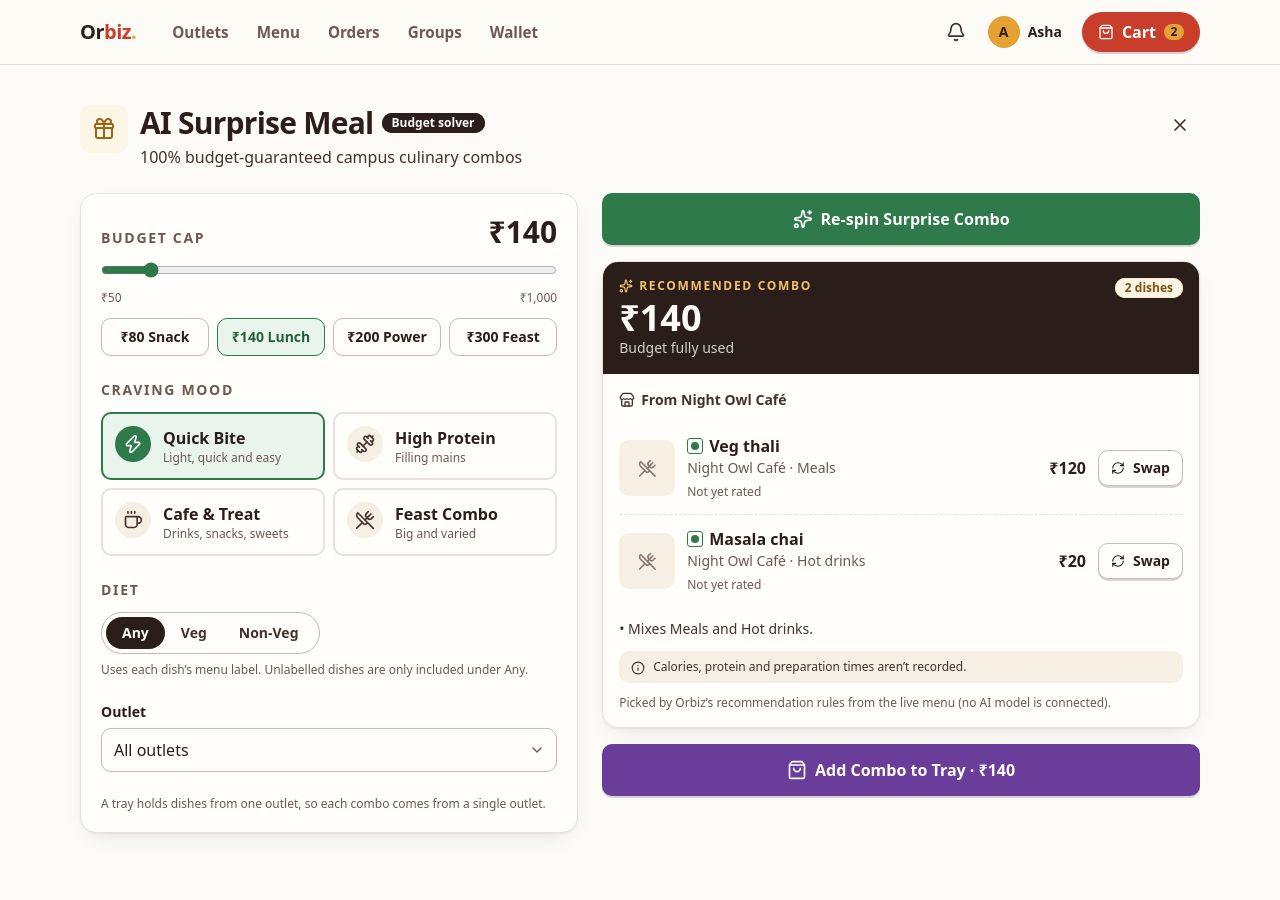
it: <SurpriseMealPage /> › swaps one dish and keeps the rest
Click the button with aria-label "Swap Masala chai" at (1140, 561), box [1098,543,1183,579]
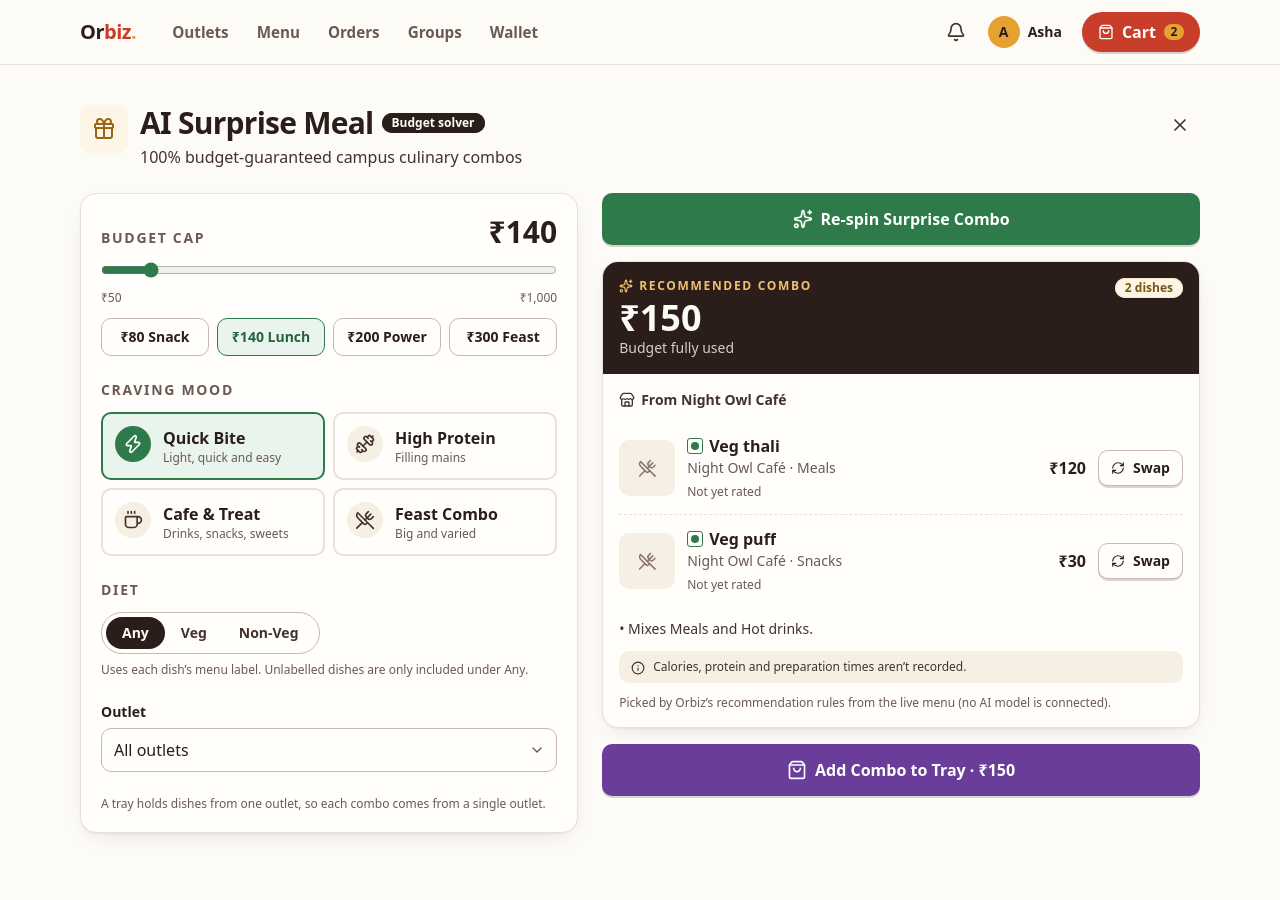
Check: the text "Veg thali" is shown, box [709,434,780,458]
Check: the text "Veg puff" is shown, box [709,527,776,551]
Check: the text "Masala chai" is gone
